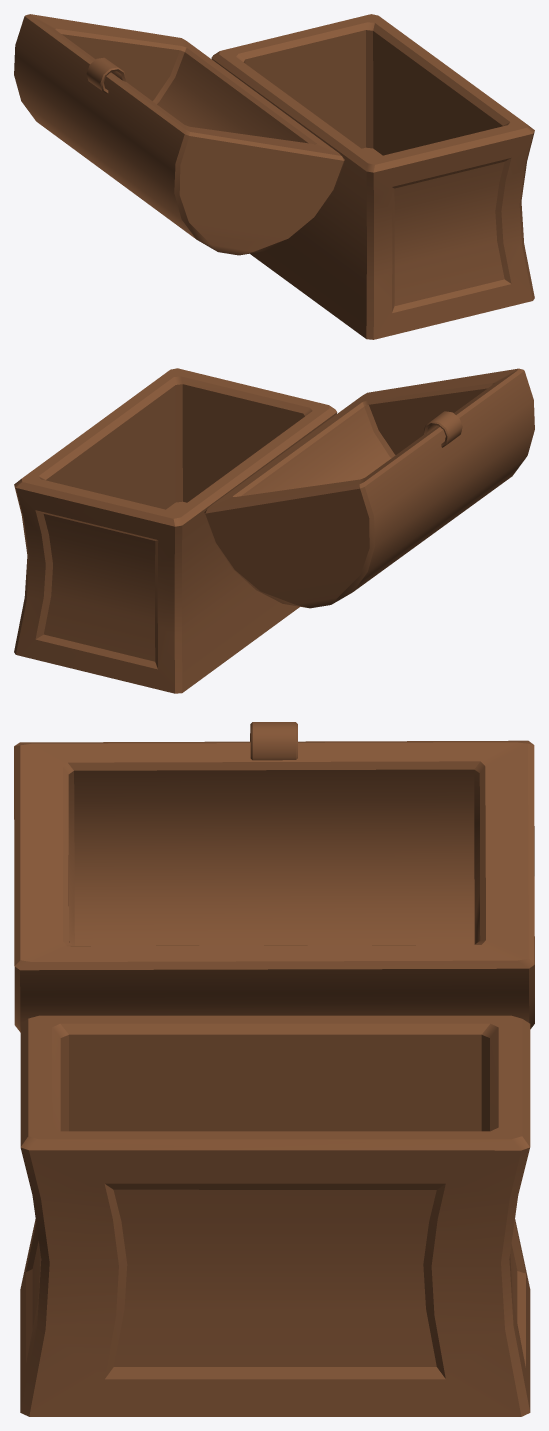
Rendered from SM_Chest.fbx.
3 renders of one model, top to bottom at view 1: azimuth 30°, elevation 25°; view 2: azimuth 150°, elevation 25°; view 3: azimuth 270°, elevation 25°, orthographic. The views are drawn at different scales.
Parts seen in each view (by area): view 1: top_chest, Bottom_Chest; view 2: top_chest, Bottom_Chest; view 3: top_chest, Bottom_Chest.
Part boxes in pixels (x1,y1,x2,y2): top_chest: [211, 14, 534, 339]; Bottom_Chest: [14, 14, 344, 255]; top_chest: [14, 368, 337, 693]; Bottom_Chest: [204, 368, 534, 608]; top_chest: [20, 1015, 530, 1416]; Bottom_Chest: [14, 722, 534, 1032].
Bounding box in the file's own units: 2.15 × 1.49 × 1.67.
